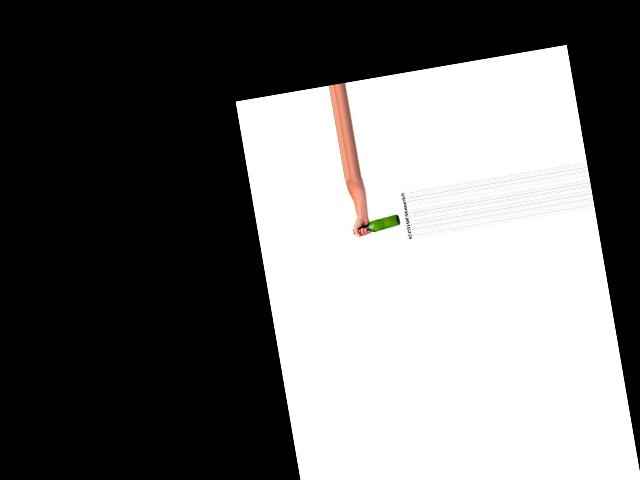beer: (351, 213, 401, 234)
